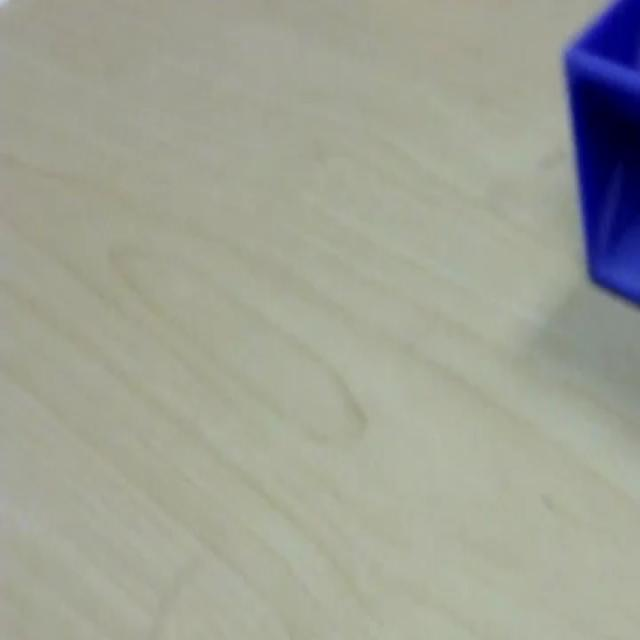blue_block: (560, 0, 638, 304)
